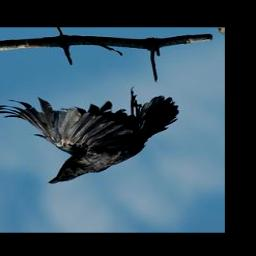Crow: (0, 86, 176, 186)
